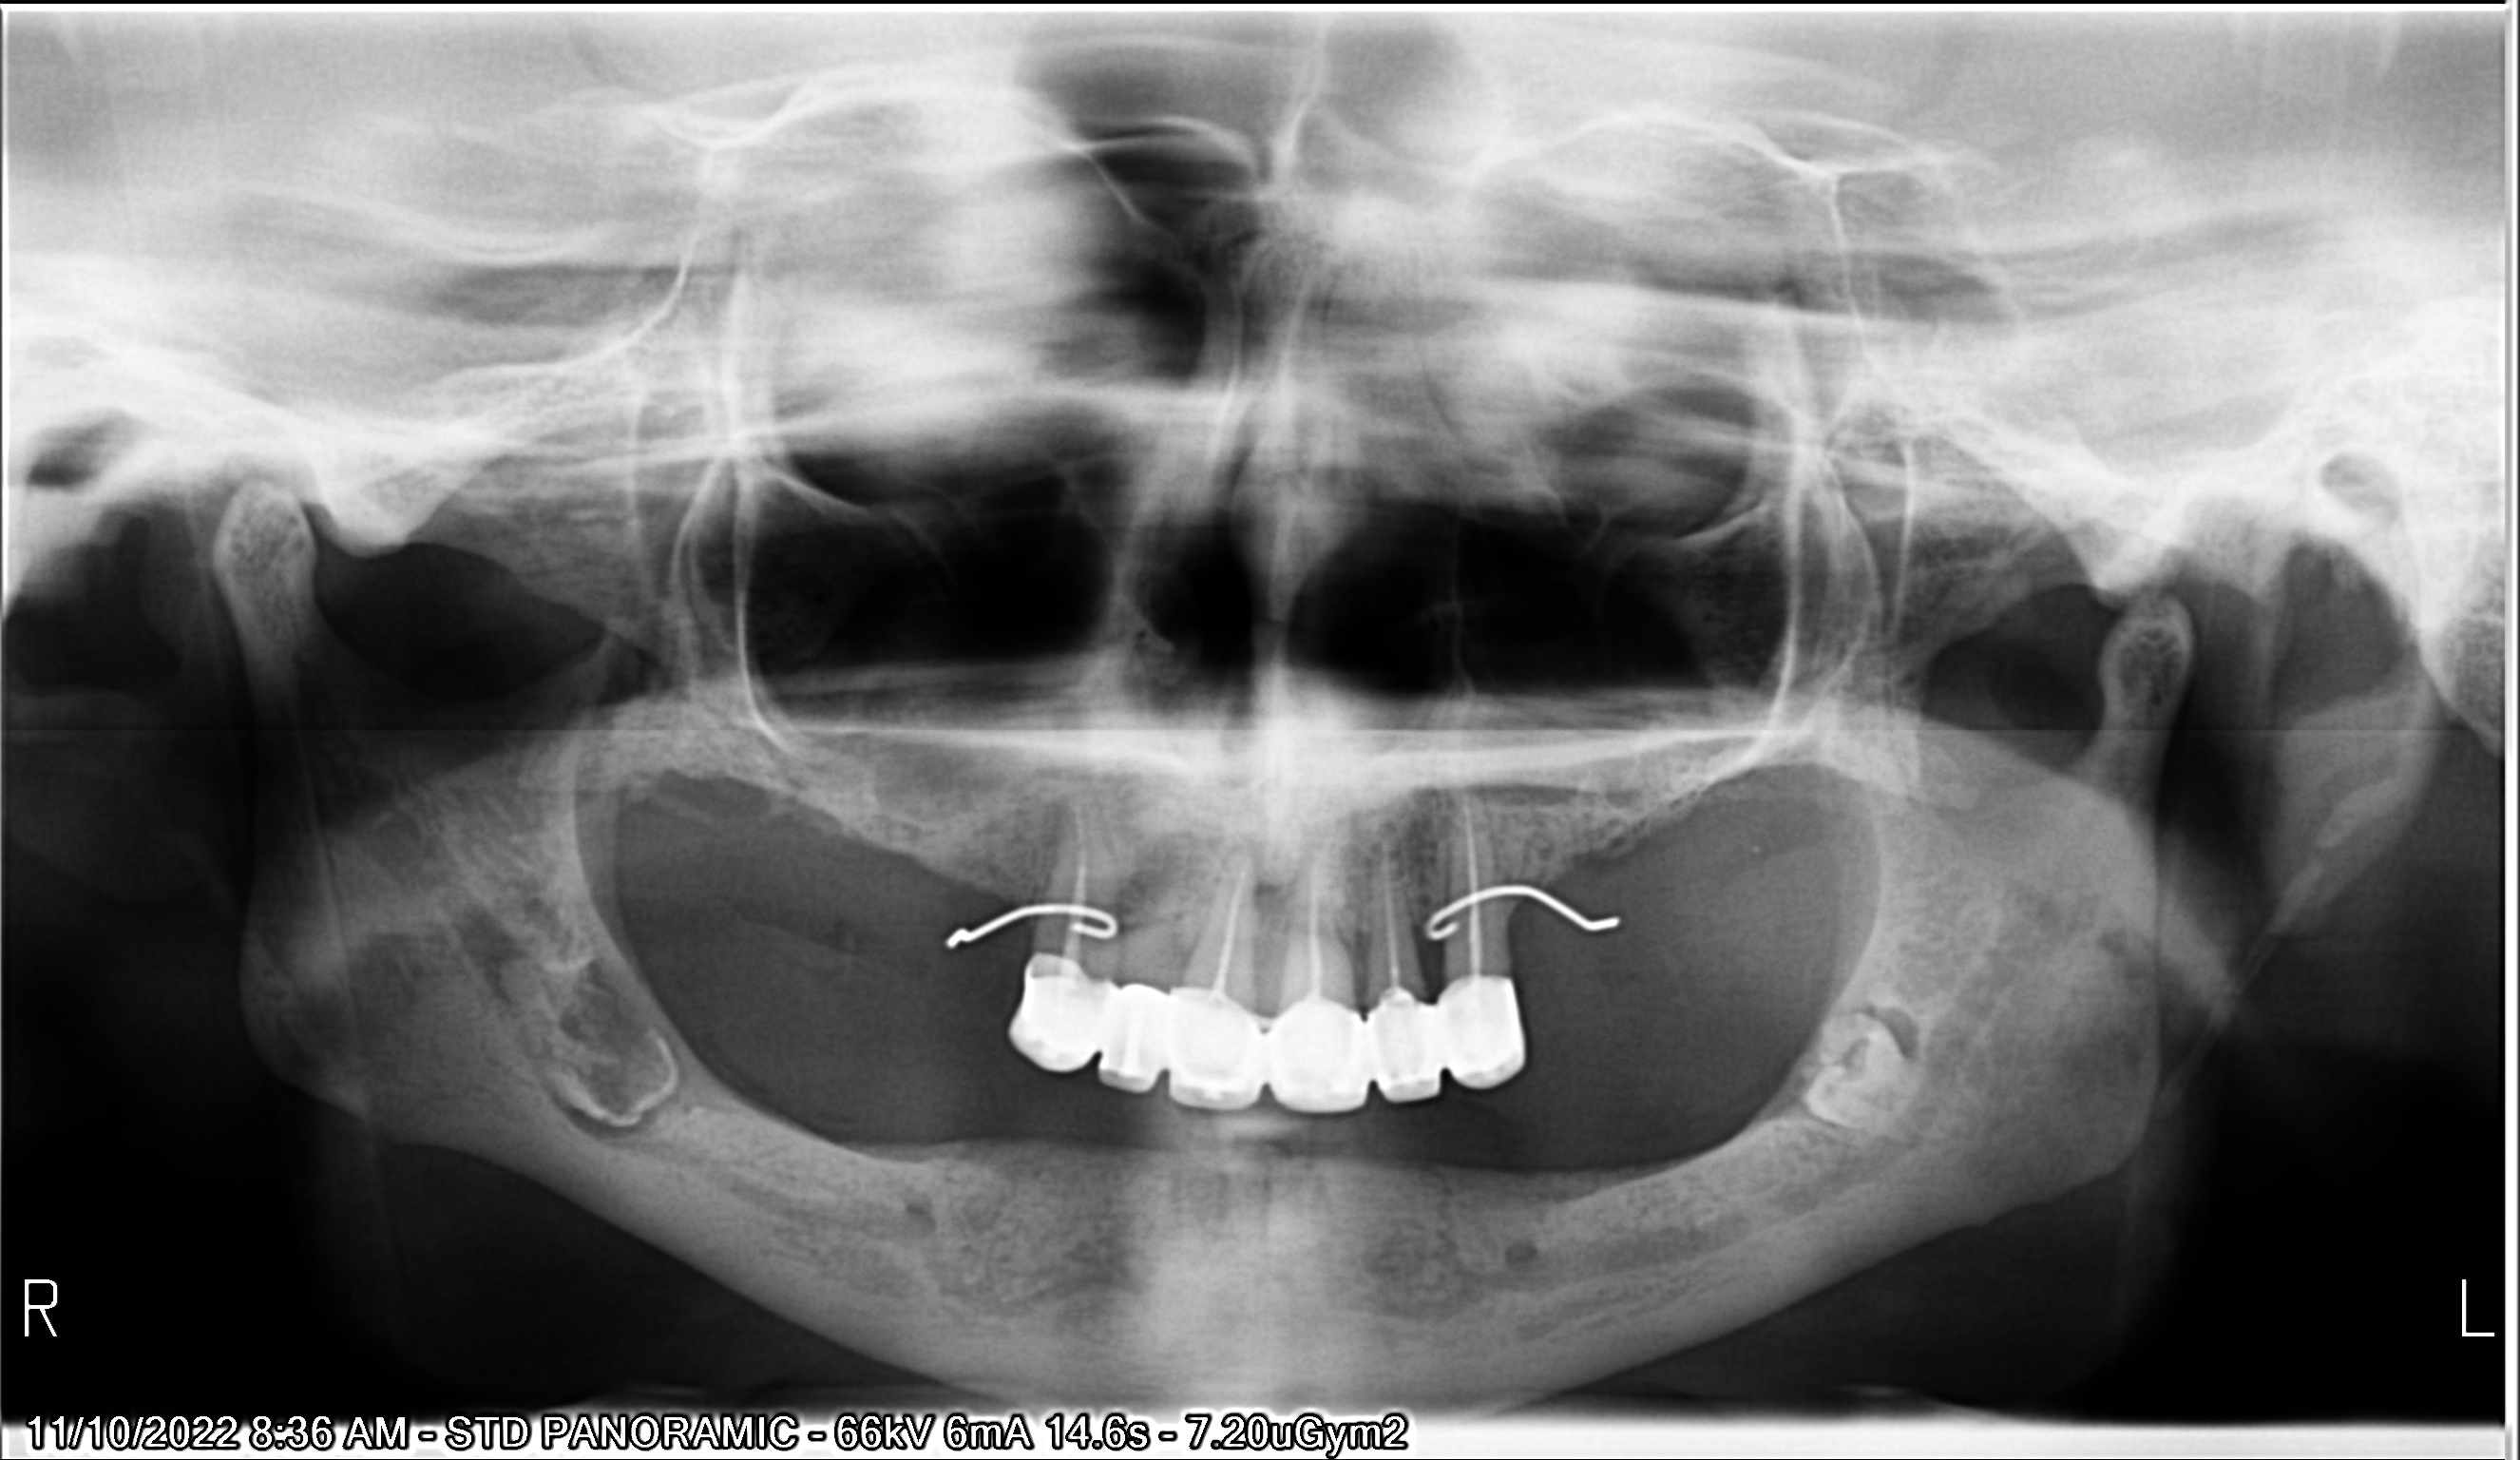END: (1019, 786, 1113, 975), (1429, 768, 1514, 973), (1257, 843, 1360, 999), (1174, 833, 1270, 996), (1353, 815, 1433, 980)
IMT: (1761, 985, 1994, 1180)
PRR: (986, 940, 1579, 1130)
